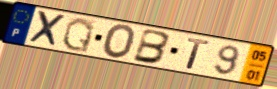9: (211, 45, 244, 76)
B: (131, 27, 173, 66)
O: (101, 23, 138, 61)
Q: (60, 16, 96, 55)
T: (184, 37, 212, 72)
X: (27, 10, 68, 50)
